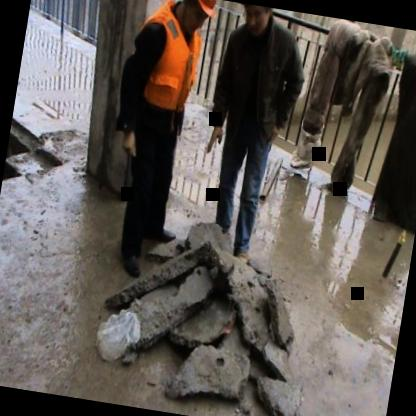head: (233, 2, 282, 38)
helmet: (173, 0, 220, 35)
